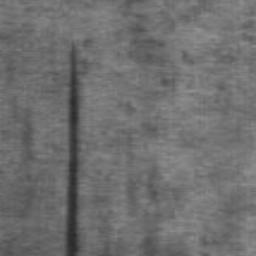Scratches: (66, 40, 83, 256)
